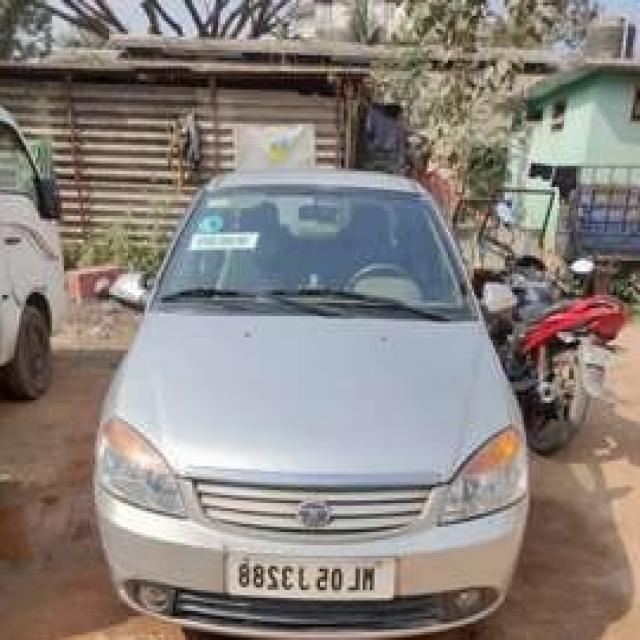license_plate: (215, 548, 402, 604), (577, 338, 612, 376)
